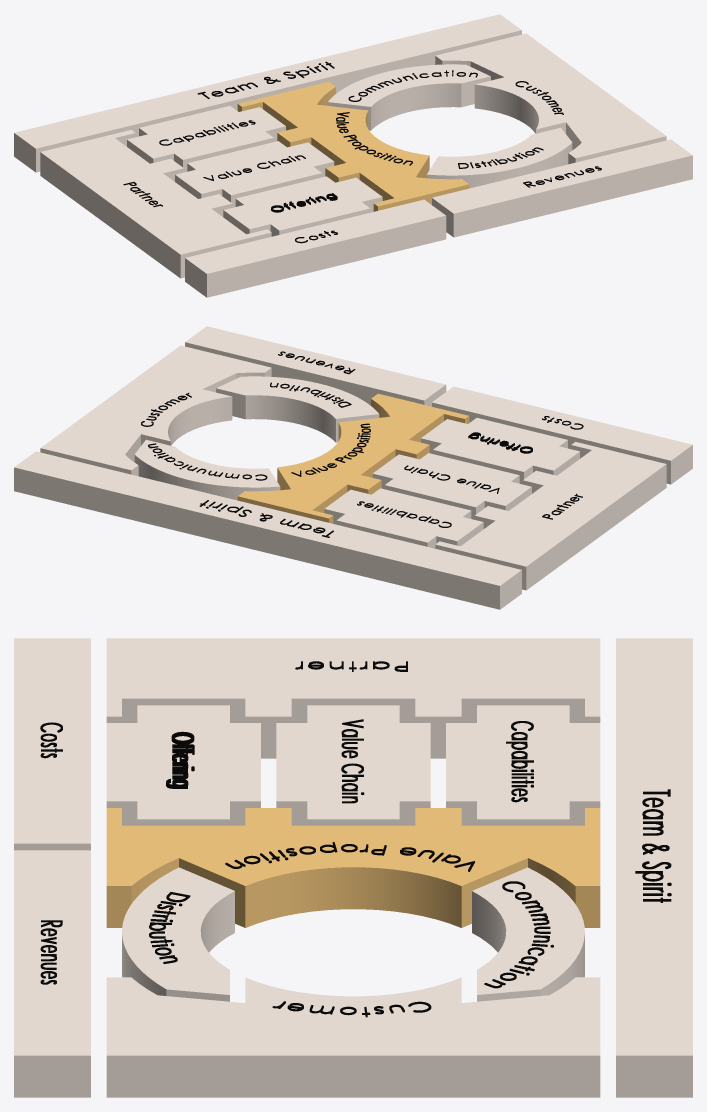
The model's file is 20250831_Canvas.glb.
3 renders of one model, top to bottom at view 1: azimuth 30°, elevation 25°; view 2: azimuth 150°, elevation 25°; view 3: azimuth 270°, elevation 25°, orthographic. The views are drawn at different scales.
Visible parts, largest first — view 1: 20250730_Partner-1, 20250730_Team-1, 20250730_Customer-1, 20250730_Costs-1, 20250730_Revenues-1, 20250730_Value Proposition_v3-1, 20250730_Capabilities-1, 20250730_Value Chain-1, 20250730_Offering-1, 20250730_Communication-1, 20250730_Distribution-1; view 2: 20250730_Team-1, 20250730_Partner-1, 20250730_Customer-1, 20250730_Value Proposition_v3-1, 20250730_Revenues-1, 20250730_Costs-1, 20250730_Value Chain-1, 20250730_Offering-1, 20250730_Capabilities-1, 20250730_Distribution-1, 20250730_Communication-1; view 3: 20250730_Customer-1, 20250730_Value Proposition_v3-1, 20250730_Partner-1, 20250730_Team-1, 20250730_Revenues-1, 20250730_Value Chain-1, 20250730_Capabilities-1, 20250730_Offering-1, 20250730_Costs-1, 20250730_Distribution-1, 20250730_Communication-1.
Part boxes in pixels (left/top/right/bottom): 20250730_Partner-1: left=40, top=130, right=271, bottom=278; 20250730_Team-1: left=14, top=14, right=521, bottom=172; 20250730_Customer-1: left=435, top=33, right=666, bottom=164; 20250730_Costs-1: left=185, top=199, right=446, bottom=297; 20250730_Revenues-1: left=432, top=139, right=692, bottom=237; 20250730_Value Proposition_v3-1: left=237, top=81, right=469, bottom=211; 20250730_Capabilities-1: left=127, top=106, right=285, bottom=172; 20250730_Value Chain-1: left=175, top=141, right=334, bottom=207; 20250730_Offering-1: left=223, top=176, right=382, bottom=236; 20250730_Communication-1: left=327, top=64, right=490, bottom=130; 20250730_Distribution-1: left=426, top=127, right=572, bottom=188; 20250730_Team-1: left=14, top=451, right=521, bottom=609; 20250730_Partner-1: left=435, top=442, right=666, bottom=590; 20250730_Customer-1: left=40, top=345, right=271, bottom=476; 20250730_Value Proposition_v3-1: left=237, top=393, right=469, bottom=523; 20250730_Revenues-1: left=185, top=326, right=446, bottom=406; 20250730_Costs-1: left=432, top=386, right=692, bottom=484; 20250730_Value Chain-1: left=372, top=453, right=531, bottom=519; 20250730_Offering-1: left=421, top=418, right=579, bottom=484; 20250730_Capabilities-1: left=324, top=488, right=483, bottom=548; 20250730_Distribution-1: left=216, top=376, right=379, bottom=442; 20250730_Communication-1: left=134, top=439, right=280, bottom=500; 20250730_Customer-1: left=106, top=977, right=600, bottom=1097; 20250730_Value Proposition_v3-1: left=106, top=808, right=600, bottom=927; 20250730_Partner-1: left=106, top=638, right=600, bottom=758; 20250730_Team-1: left=616, top=638, right=692, bottom=1097; 20250730_Revenues-1: left=14, top=850, right=90, bottom=1097; 20250730_Value Chain-1: left=276, top=705, right=430, bottom=825; 20250730_Capabilities-1: left=446, top=705, right=600, bottom=825; 20250730_Offering-1: left=106, top=705, right=260, bottom=825; 20250730_Costs-1: left=14, top=638, right=90, bottom=850; 20250730_Distribution-1: left=122, top=867, right=234, bottom=1001; 20250730_Communication-1: left=472, top=867, right=584, bottom=1001.
Size of the model in its own units: 1.28 by 0.065 by 0.88.
